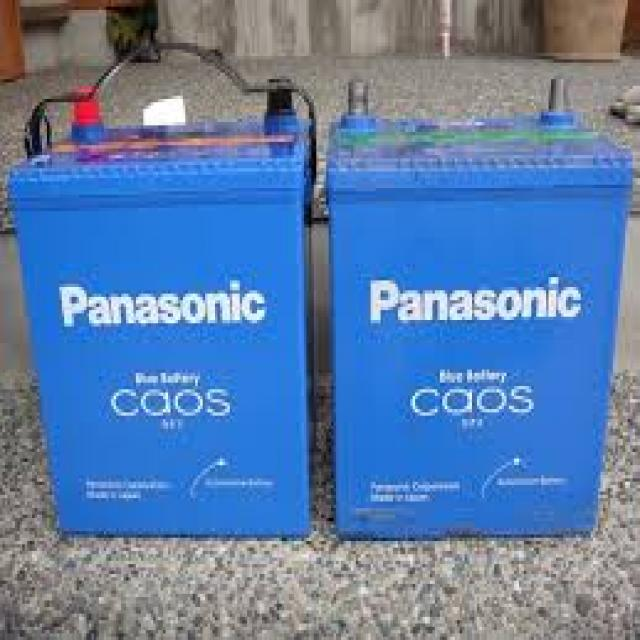non-organic waste: (324, 73, 634, 546), (21, 78, 316, 543)
